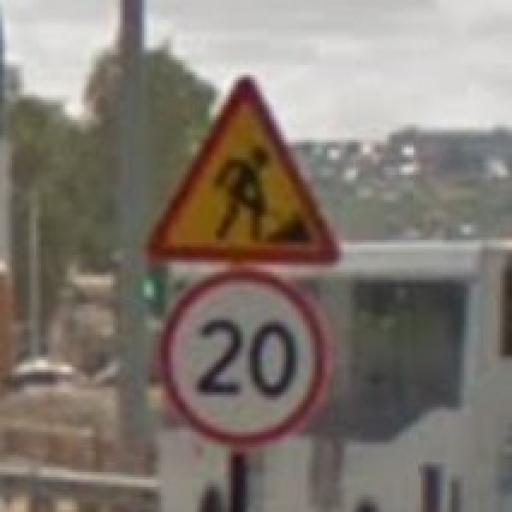traffic_sign: (148, 78, 342, 266), (157, 268, 335, 451)
